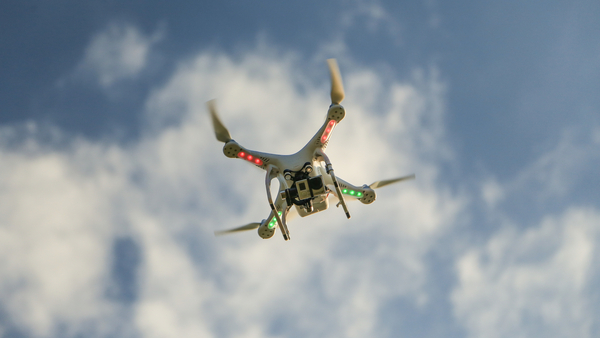drone: (204, 56, 419, 244)
